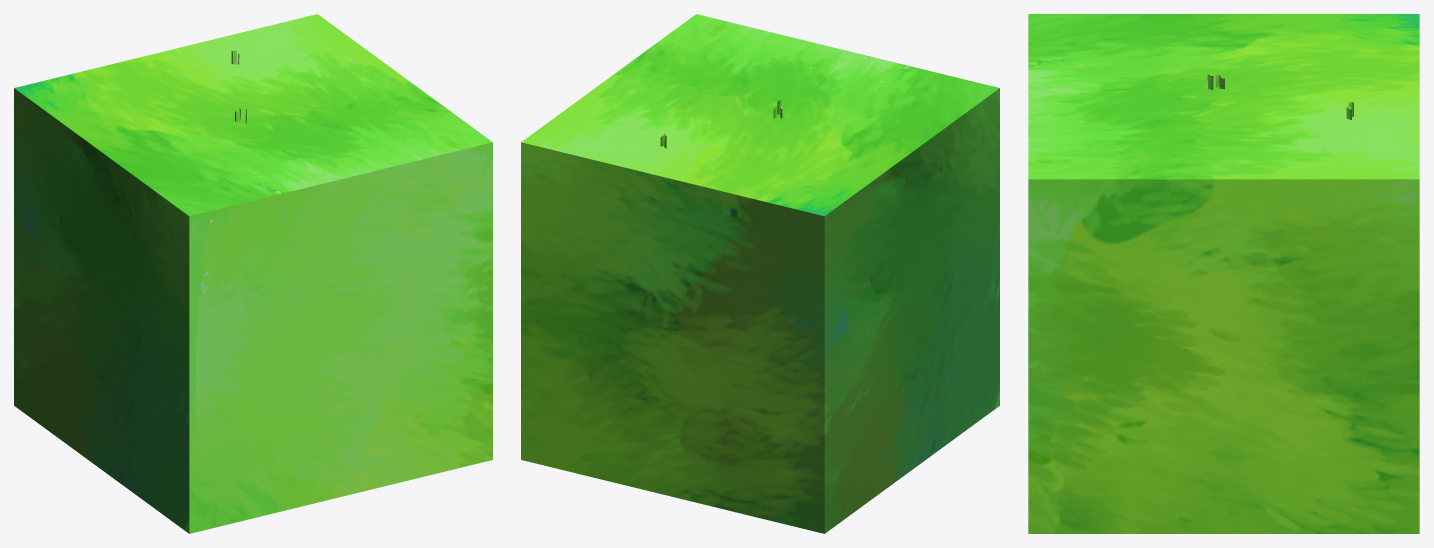
The model's file is nwfggrasswall.glb.
3 renders of one model, left to right at view 1: azimuth 30°, elevation 25°; view 2: azimuth 150°, elevation 25°; view 3: azimuth 270°, elevation 25°, orthographic. The views are drawn at different scales.
Parts seen in each view (by area): view 1: Cube.002; view 2: Cube.002; view 3: Cube.002.
Boxes of the visible parts, x1,y1,x2,y2 form: Cube.002: (14, 14, 492, 533); Cube.002: (521, 14, 999, 533); Cube.002: (1028, 14, 1419, 533).
Bounding box in the file's own units: 2 × 2.09 × 2.
Materials: 1 (1 with a texture image).
